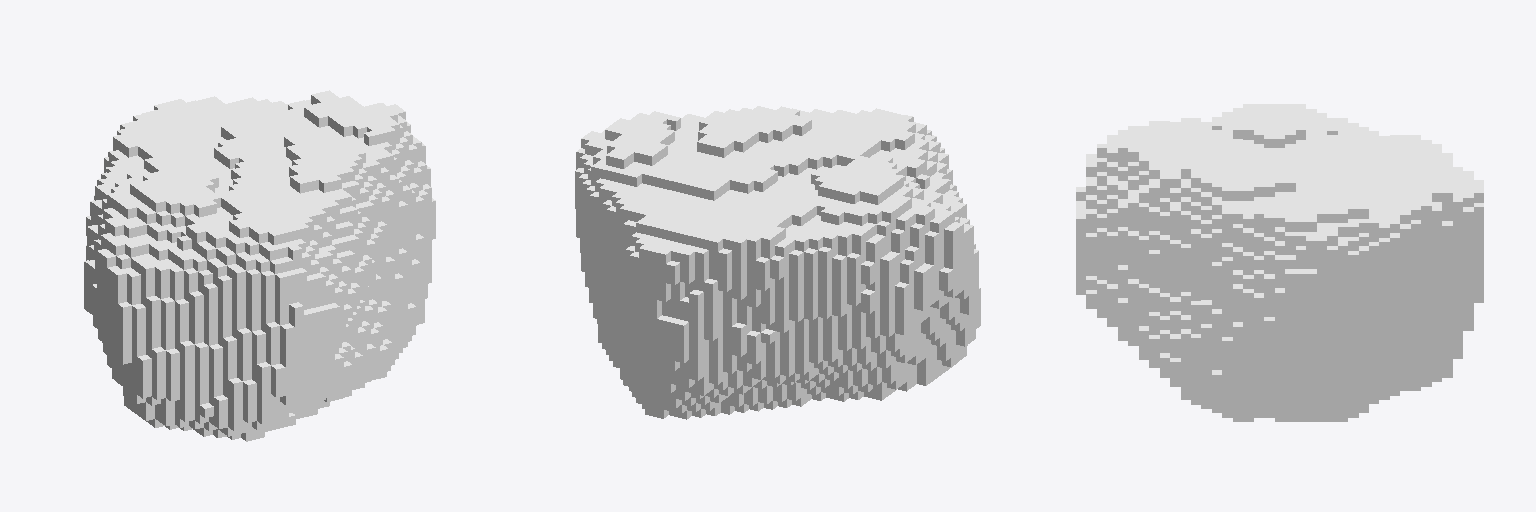
File: rock_1.obj
3 renders of one model, left to right at view 1: azimuth 30°, elevation 25°; view 2: azimuth 150°, elevation 25°; view 3: azimuth 270°, elevation 25°, orthographic.
Bounding box in the file's own units: 38 × 22 × 39.